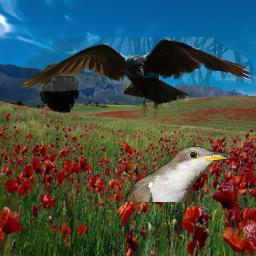Crow: (21, 37, 253, 117)
Cuckoo: (125, 146, 230, 202)
